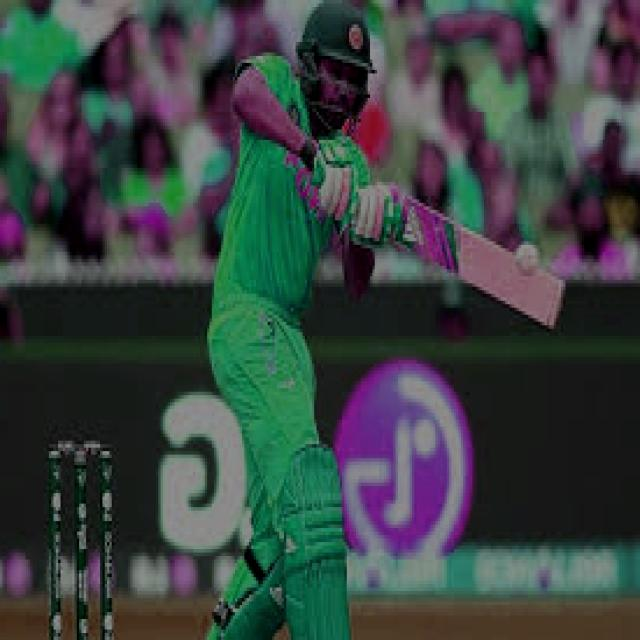toe: (540, 273, 568, 325)
